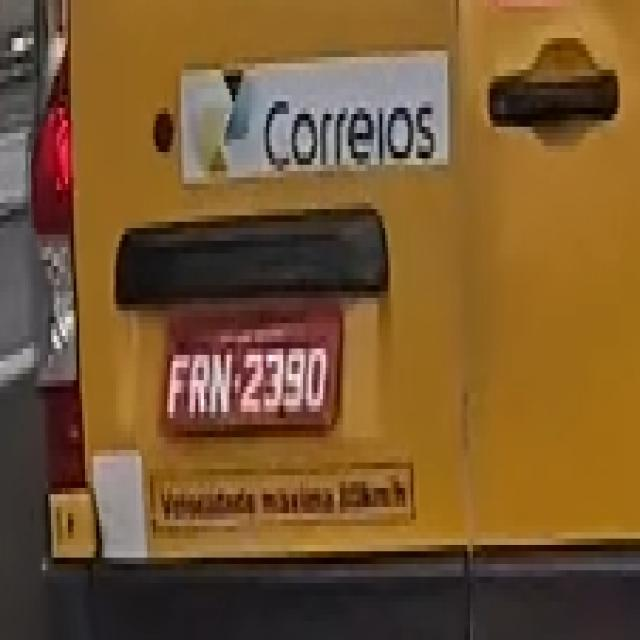Placa_mercosul_carro: (161, 307, 341, 434)
